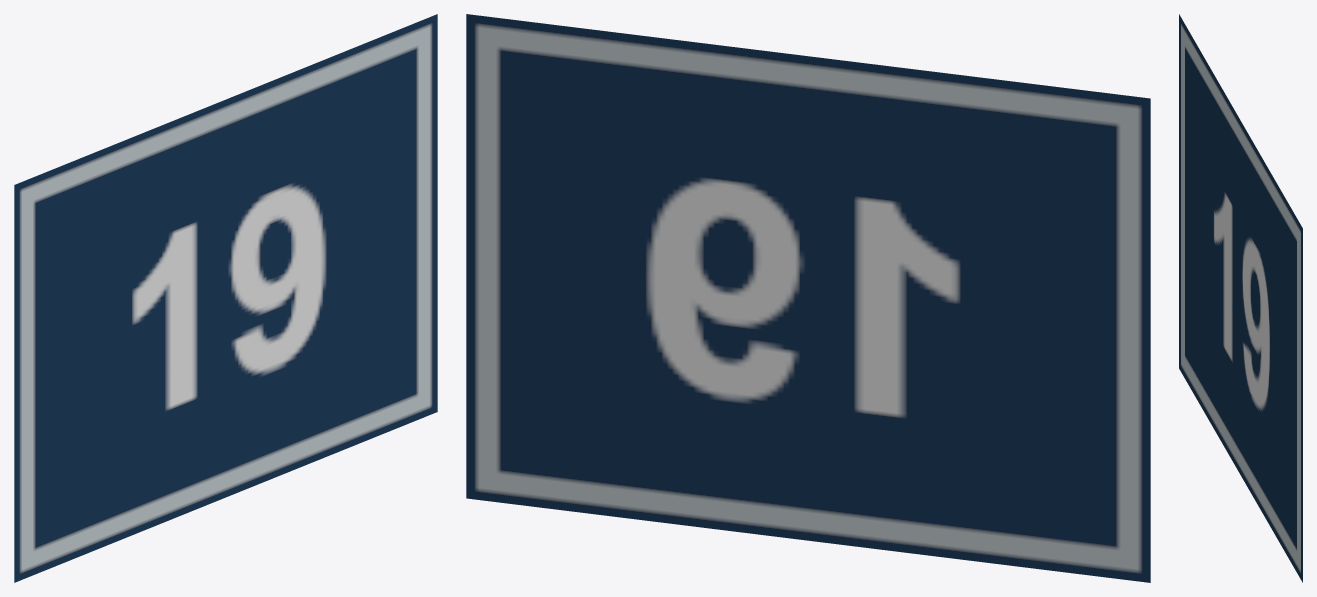
File: cell--405_675.glb
3 views of the same model, side by side, from view 1: azimuth 30°, elevation 25°; view 2: azimuth 150°, elevation 25°; view 3: azimuth 270°, elevation 25° (orthographic). The views are drawn at different scales.
Parts seen in each view (by area): view 1: cell--405_675; view 2: cell--405_675; view 3: cell--405_675.
Part boxes in pixels (x1,y1,x2,y2): cell--405_675: [14, 14, 437, 582]; cell--405_675: [466, 14, 1150, 582]; cell--405_675: [1179, 14, 1302, 582].
Bounding box in the file's own units: 0.1166 × 0.09 × 0.0284.
1 material, 1 textured.
